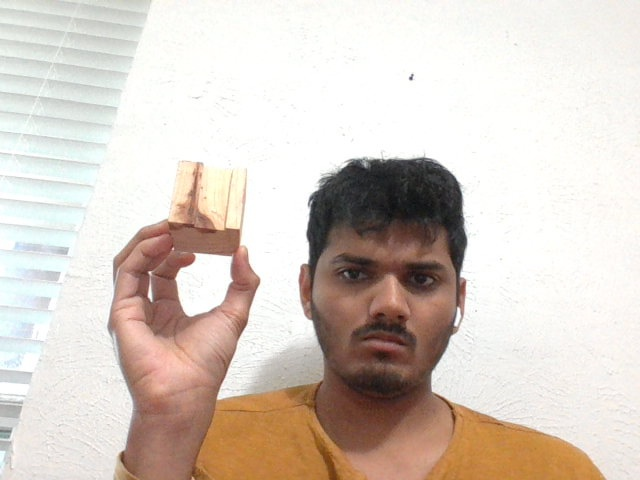NormalBlock: (169, 160, 249, 256)
